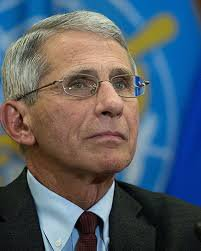noMask: (4, 14, 169, 178)
